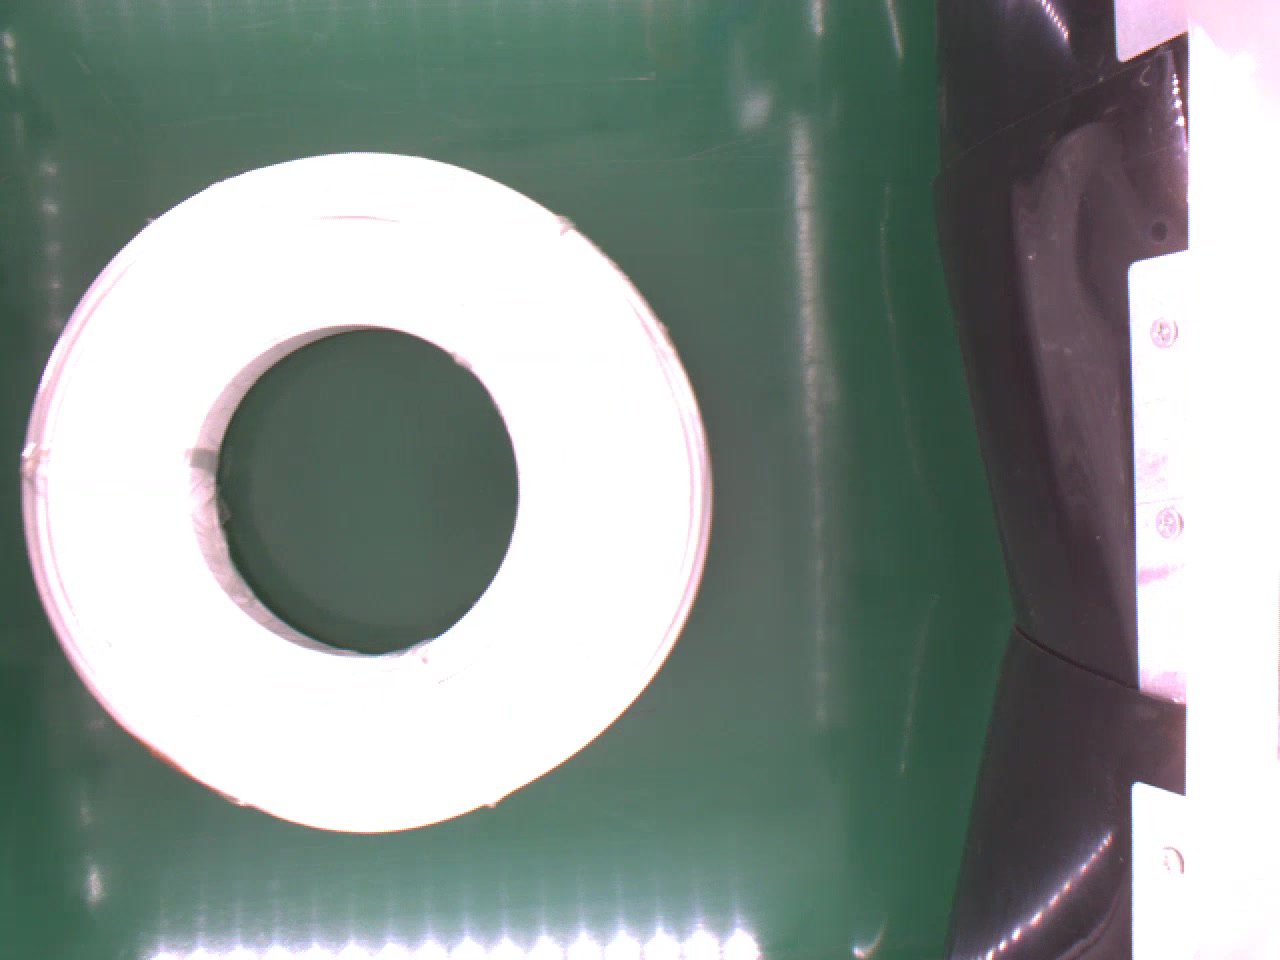white: (20, 147, 720, 835)
